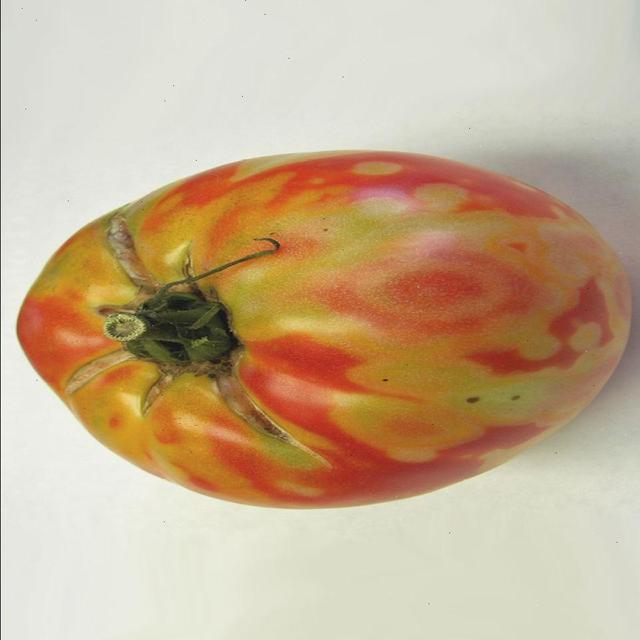Spotted wilt Virus Fruit: (205, 130, 627, 352)
